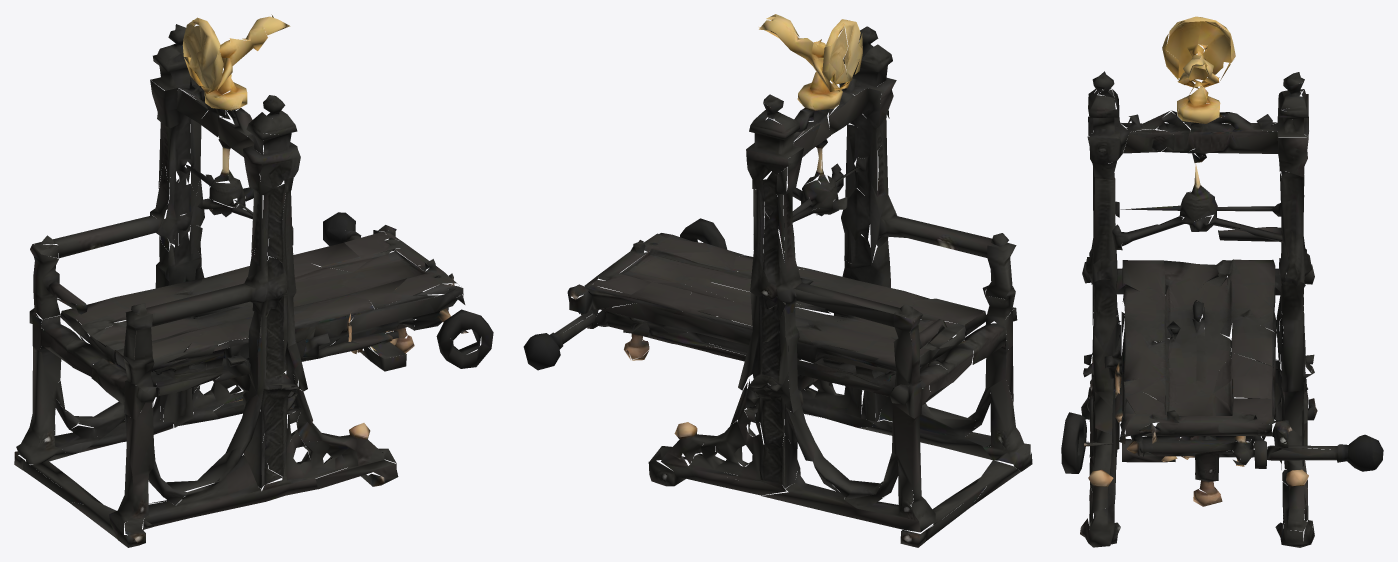
File: cp_press.glb
3 views of the same model, side by side, from view 1: azimuth 30°, elevation 25°; view 2: azimuth 150°, elevation 25°; view 3: azimuth 270°, elevation 25° (orthographic).
Parts seen in each view (by area): view 1: tripo_node_fc1fafff-3585-4ed1-a27e-07780ba8a4c1; view 2: tripo_node_fc1fafff-3585-4ed1-a27e-07780ba8a4c1; view 3: tripo_node_fc1fafff-3585-4ed1-a27e-07780ba8a4c1.
Part boxes in pixels (bbox=[...]): tripo_node_fc1fafff-3585-4ed1-a27e-07780ba8a4c1: bbox=[14, 14, 493, 547]; tripo_node_fc1fafff-3585-4ed1-a27e-07780ba8a4c1: bbox=[523, 14, 1032, 547]; tripo_node_fc1fafff-3585-4ed1-a27e-07780ba8a4c1: bbox=[1061, 16, 1383, 547].
Size of the model in its own units: 0.8562 by 1 by 0.6322.
Materials: 1 (1 with a texture image).
